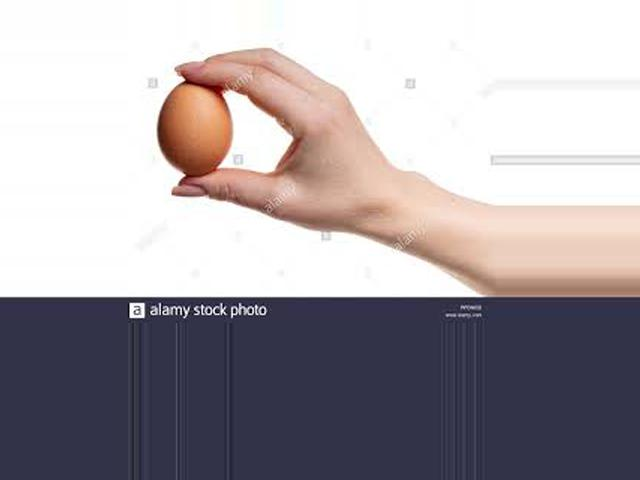egg: (156, 81, 236, 176)
